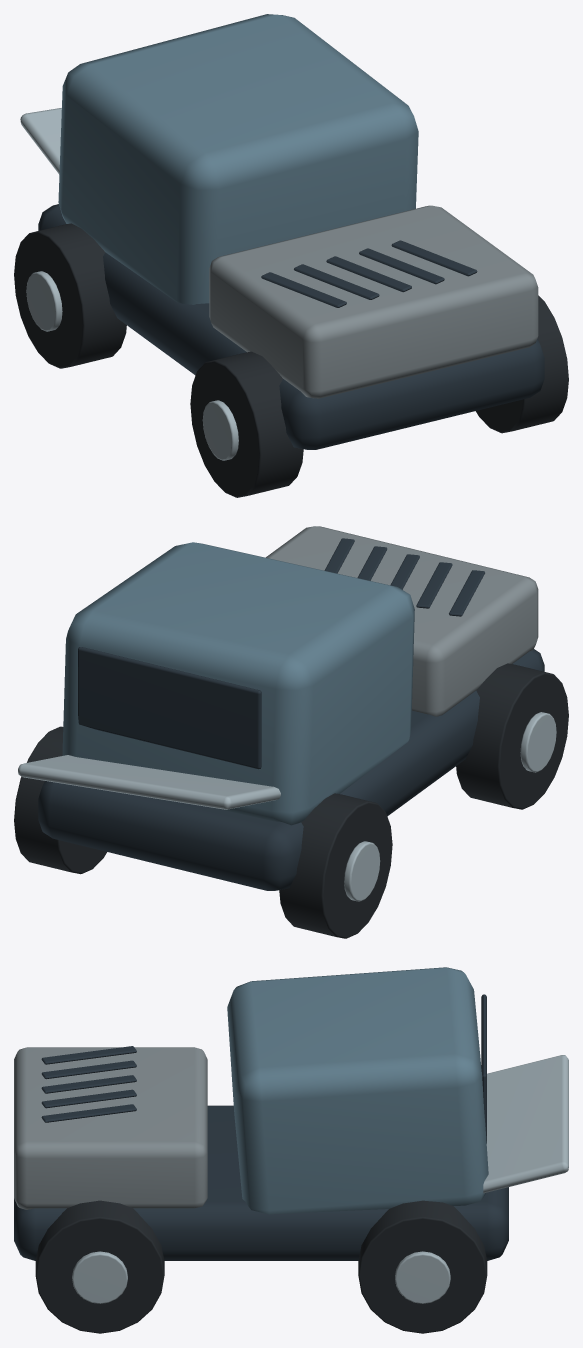
Rendered from 29_wreck_rover.glb.
3 renders of one model, top to bottom at view 1: azimuth 30°, elevation 25°; view 2: azimuth 150°, elevation 25°; view 3: azimuth 270°, elevation 25°, orthographic. The views are drawn at different scales.
Parts seen in each view (by area): view 1: Cab, Burned bed, Chassis, Rover tire, Wheel hub; view 2: Cab, Chassis, Rover tire, Burned bed, Wheel hub; view 3: Cab, Burned bed, Rover tire, Chassis, Wheel hub.
Boxes of the visible parts, x1=… form: Cab: x1=58, y1=14, x2=418, y2=304; Burned bed: x1=209, y1=205, x2=538, y2=398; Chassis: x1=38, y1=204, x2=544, y2=449; Rover tire: x1=14, y1=223, x2=568, y2=497; Wheel hub: x1=20, y1=108, x2=238, y2=460; Cab: x1=62, y1=542, x2=414, y2=825; Chassis: x1=38, y1=538, x2=544, y2=890; Rover tire: x1=14, y1=663, x2=568, y2=938; Burned bed: x1=266, y1=526, x2=538, y2=716; Wheel hub: x1=18, y1=712, x2=556, y2=901; Cab: x1=227, y1=967, x2=488, y2=1214; Burned bed: x1=14, y1=1047, x2=207, y2=1209; Rover tire: x1=35, y1=1200, x2=487, y2=1333; Chassis: x1=14, y1=994, x2=508, y2=1260; Wheel hub: x1=72, y1=1055, x2=568, y2=1303.
Bounding box in the file's own units: 1.59 × 1.3 × 2.58.
